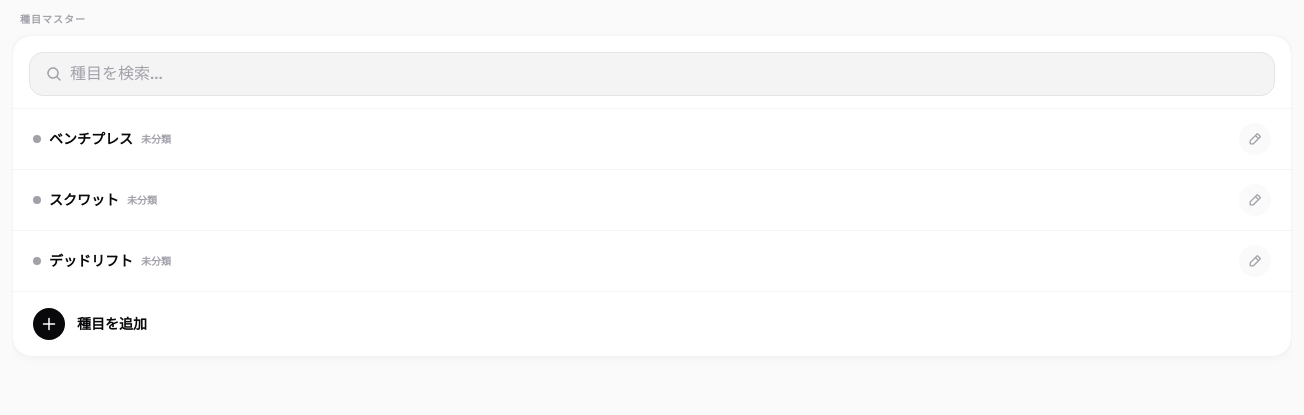
Test: ExerciseMasterSection › 追加をキャンセルすると重複エラーをクリアする
The width and height of the screenshot is (1304, 415).
Step 1. Click the button "種目を追加" → (49, 324), box [13,292,1291,356]
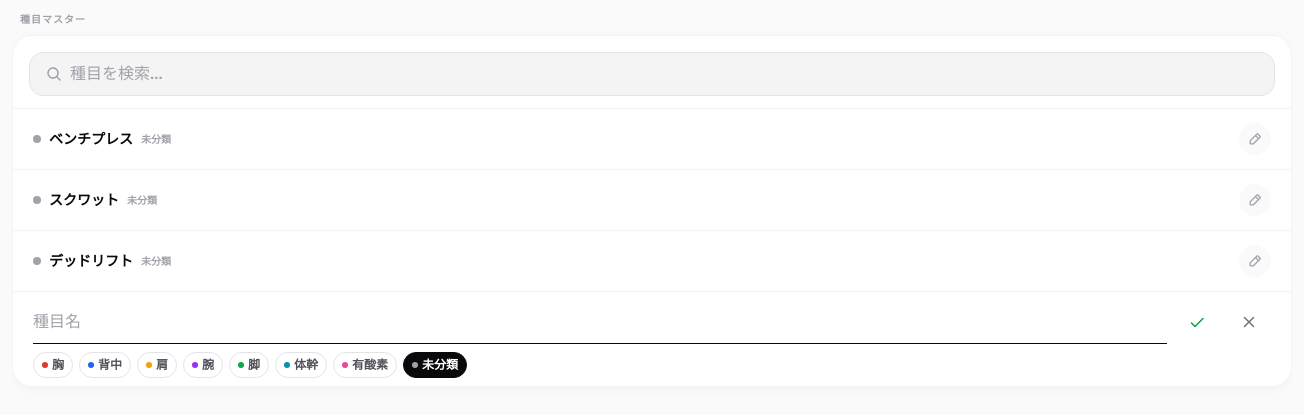
Step 2. Type "ベンチプレス" into the field named "新しい種目名" → (600, 322), box [33,300,1167,344]
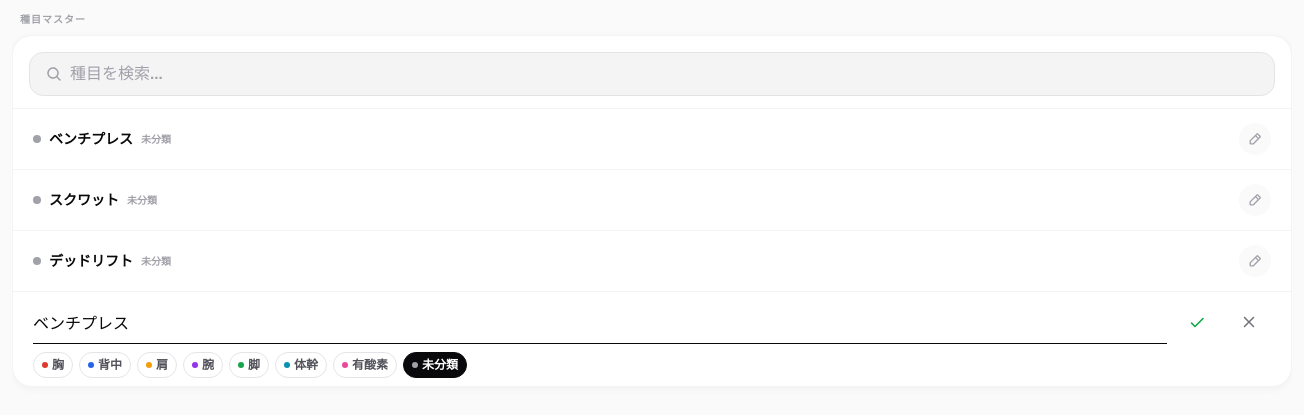
Step 3. Click the button named "追加を確定" → (1197, 322), box [1175,300,1219,344]
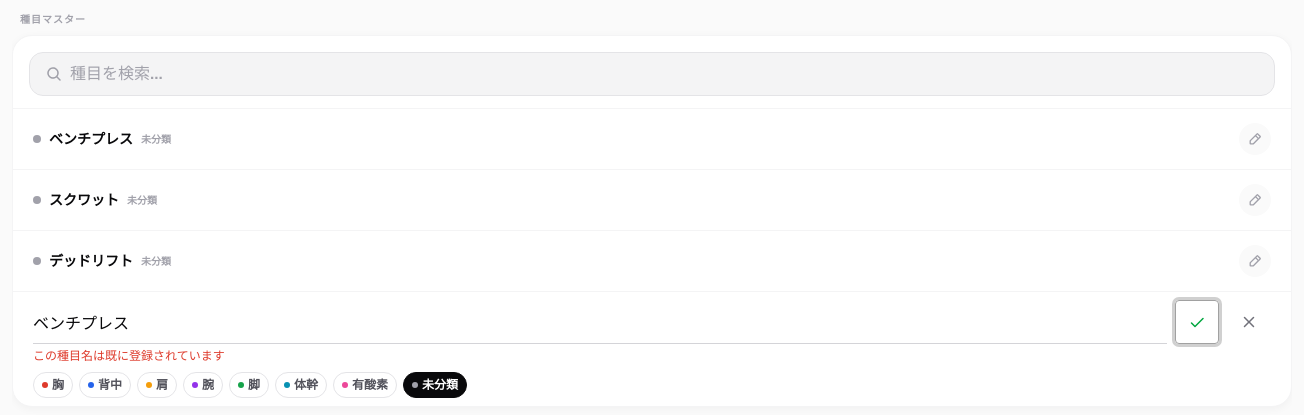
Check: the message "この種目名は既に登録されています" is shown, box [33,348,225,363]
Step 4. Click the button named "追加をキャンセル" → (1249, 322), box [1227,300,1271,344]
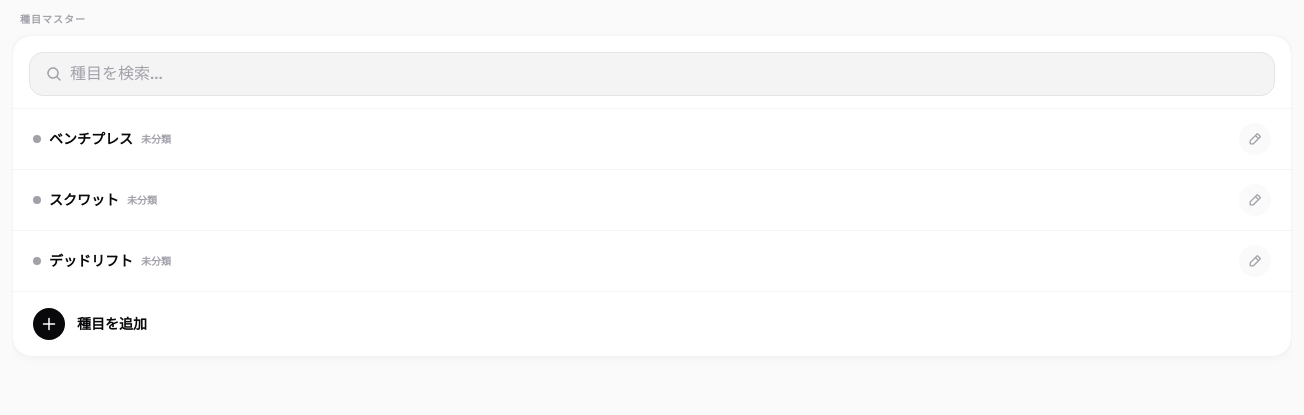
Check: the message "この種目名は既に登録されています" is gone
